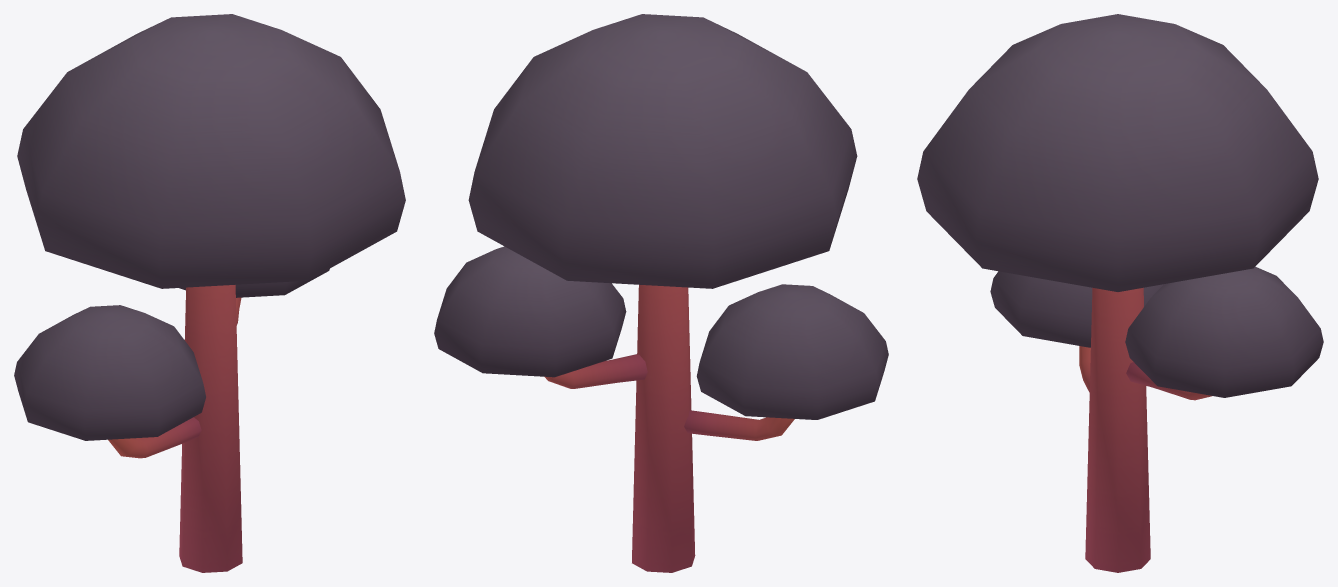
The model's file is Tree5_Dark.glb.
3 views of the same model, side by side, from view 1: azimuth 30°, elevation 25°; view 2: azimuth 150°, elevation 25°; view 3: azimuth 270°, elevation 25° (orthographic).
Visible parts, largest first — view 1: Tree5_Dark; view 2: Tree5_Dark; view 3: Tree5_Dark.
Part boxes in pixels (x1,y1,x2,y2): Tree5_Dark: [14, 14, 405, 572]; Tree5_Dark: [434, 14, 888, 572]; Tree5_Dark: [917, 14, 1323, 572].
Size of the model in its own units: 2.85 by 3.82 by 2.68.
1 material, 1 textured.
